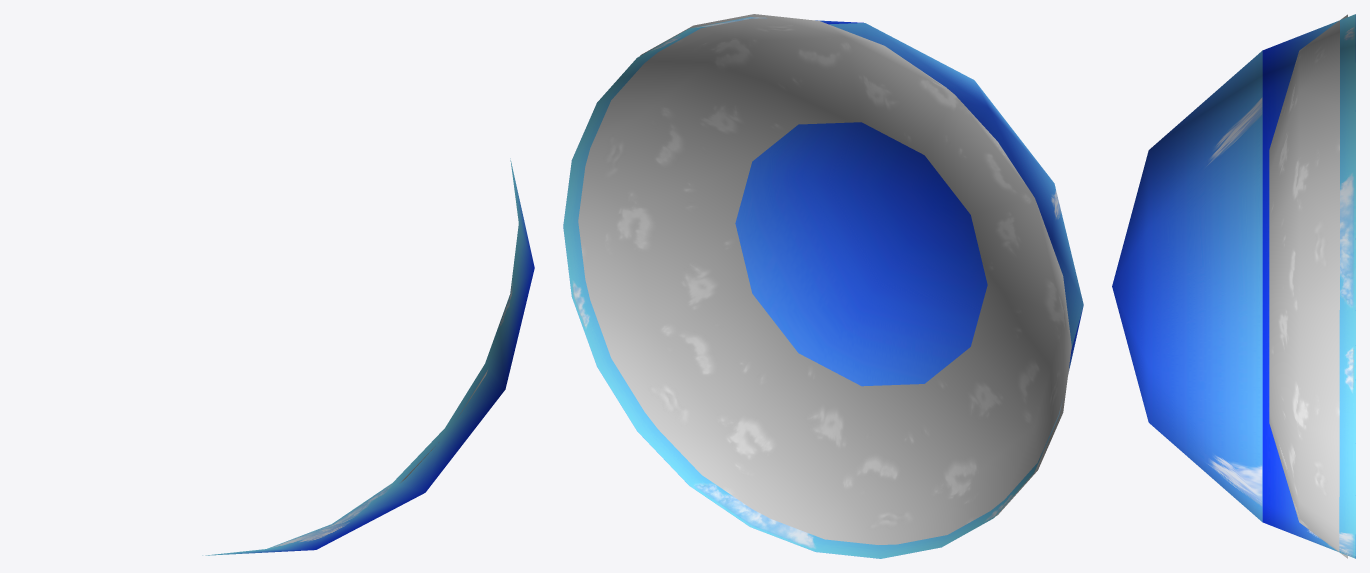
File: skybox.glb
3 renders of one model, left to right at view 1: azimuth 30°, elevation 25°; view 2: azimuth 150°, elevation 25°; view 3: azimuth 270°, elevation 25°, orthographic. The views are drawn at different scales.
Parts seen in each view (by area): view 1: mesh1_noesis_meshnode_0001; view 2: mesh0_noesis_meshnode_0000, mesh1_noesis_meshnode_0001; view 3: mesh1_noesis_meshnode_0001, mesh0_noesis_meshnode_0000.
Boxes of the visible parts, x1,y1,x2,y2 form: mesh1_noesis_meshnode_0001: (202, 158, 534, 555); mesh0_noesis_meshnode_0000: (578, 14, 1071, 544); mesh1_noesis_meshnode_0001: (563, 17, 1083, 558); mesh1_noesis_meshnode_0001: (1112, 14, 1355, 558); mesh0_noesis_meshnode_0000: (1269, 14, 1347, 558).
Size of the model in its own units: 140040 by 140014 by 62425.
2 materials, 2 textured.
